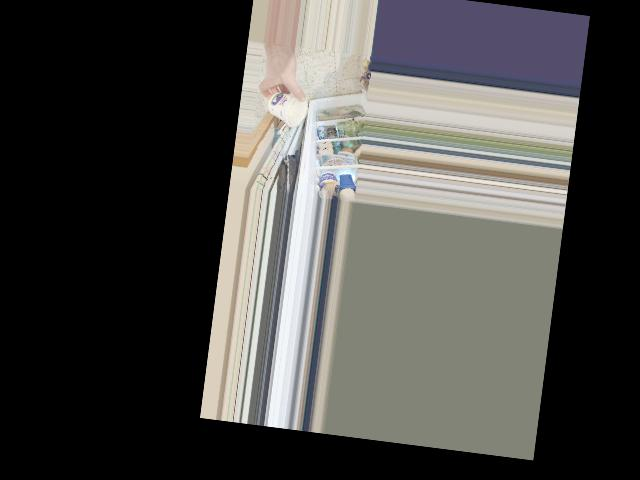cotage: (265, 87, 302, 130)
